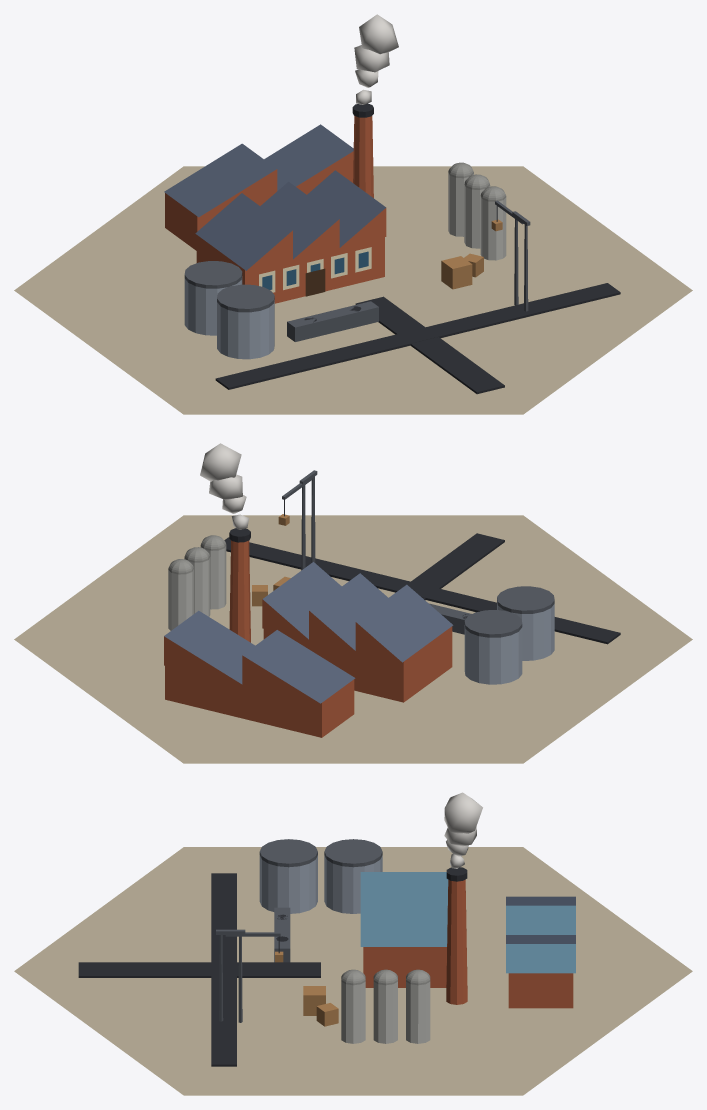
Rendered from district_industrial_zone_2.fbx.
3 views of the same model, one above another, from view 1: azimuth 30°, elevation 25°; view 2: azimuth 150°, elevation 25°; view 3: azimuth 270°, elevation 25° (orthographic).
Parts seen in each view (by area): view 1: district_industrial_zone_2; view 2: district_industrial_zone_2; view 3: district_industrial_zone_2.
Part boxes in pixels (x1,y1,x2,y2): district_industrial_zone_2: (14,14,692,414); district_industrial_zone_2: (14,443,692,763); district_industrial_zone_2: (14,792,692,1095).
Bounding box in the file's own units: 182 × 74.11 × 210.
